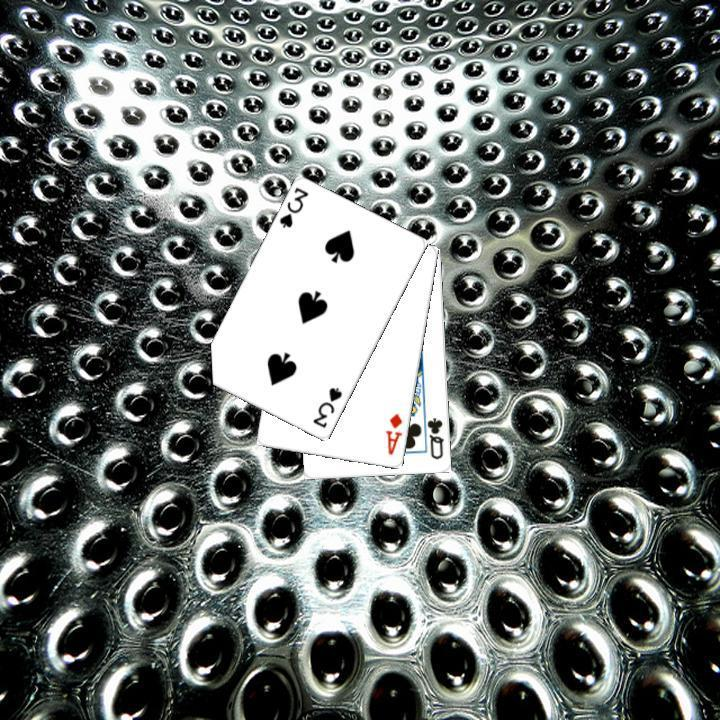3: (308, 383, 344, 430), (275, 183, 310, 230)
A: (382, 409, 404, 457)
Q: (423, 414, 446, 461)
